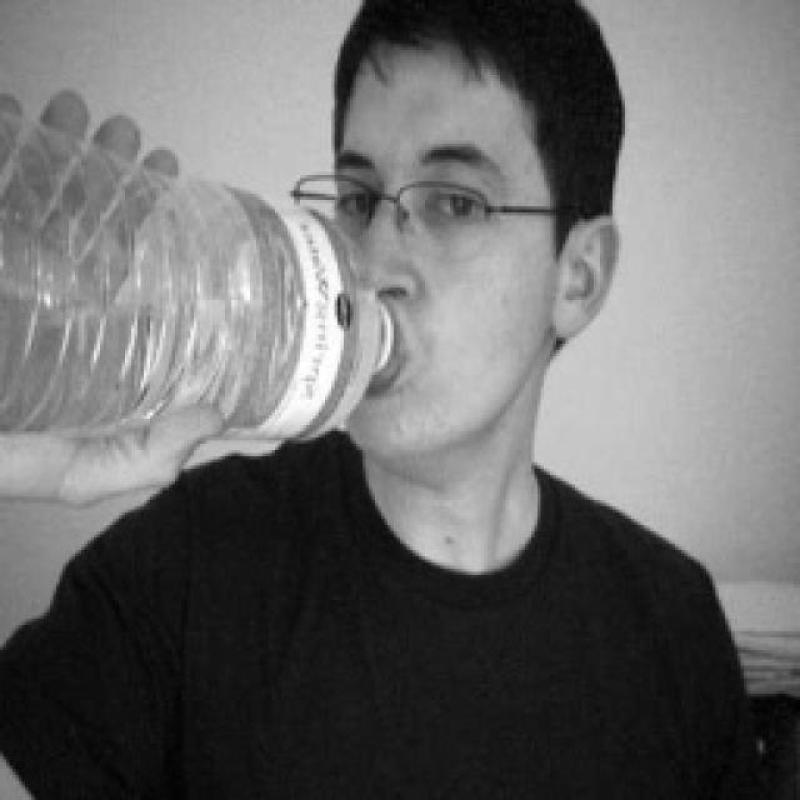botella: (0, 108, 398, 462)
